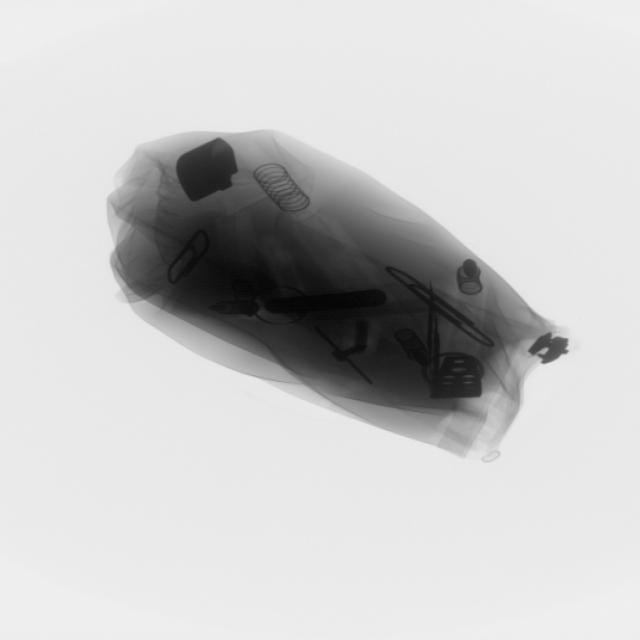BLADE: (523, 327, 578, 370), (420, 304, 440, 378)
GUN: (267, 273, 371, 325)
